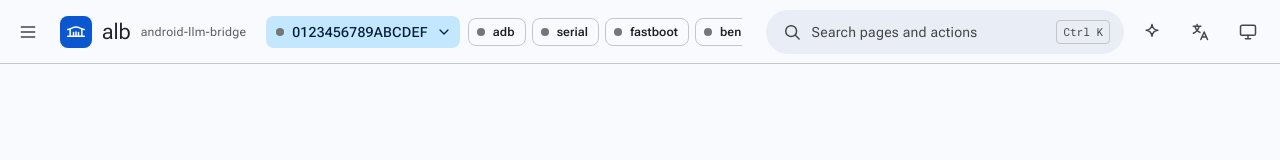
Test: TopBar device choice › shows the real transport, product and model for each device
Click the button with class "board-switch" at [363, 32], box [266, 16, 460, 48]
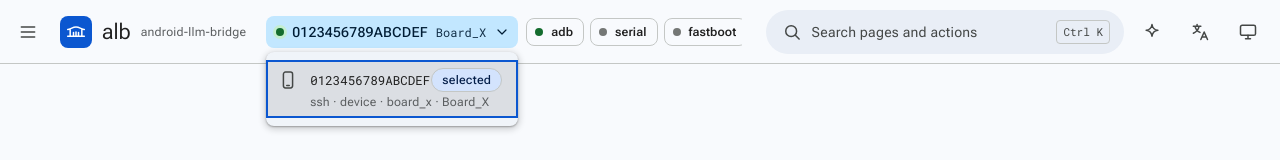
Expected: the menu item "0123456789ABCDEF" shows "ssh · device · board_x · Board_X", [266, 60, 518, 118]
